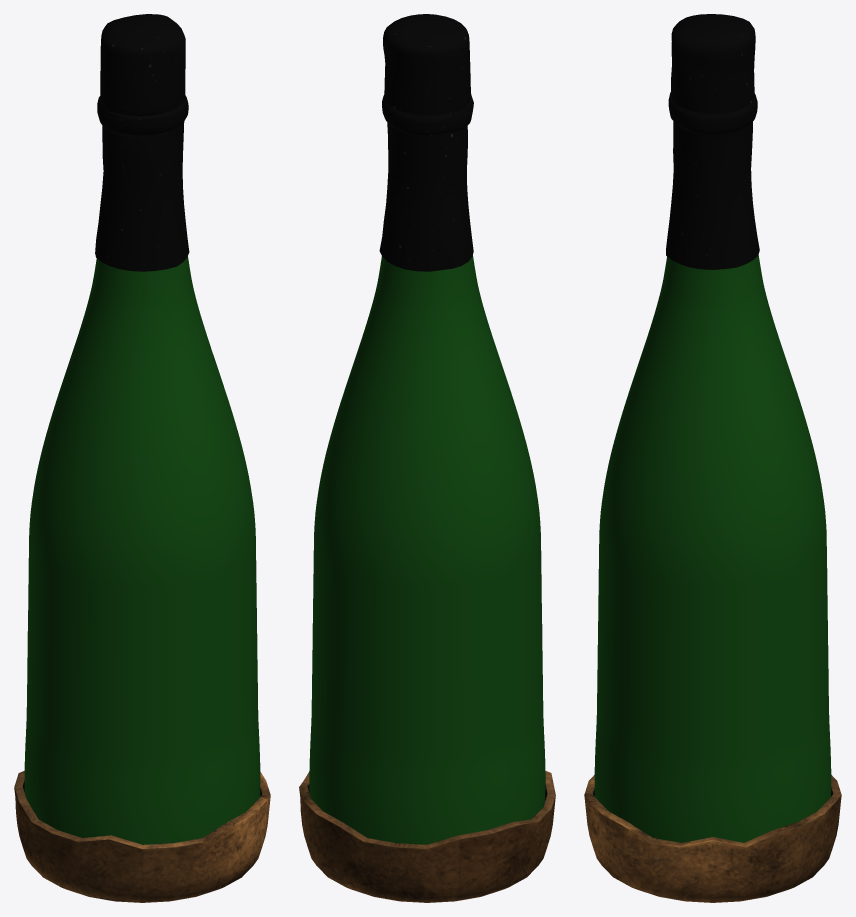
Rendered from champagne_draft1.glb.
3 views of the same model, side by side, from view 1: azimuth 30°, elevation 25°; view 2: azimuth 150°, elevation 25°; view 3: azimuth 270°, elevation 25° (orthographic).
Parts seen in each view (by area): view 1: Bottle, Shellac, Base; view 2: Bottle, Shellac, Base; view 3: Bottle, Shellac, Base.
Boxes of the visible parts, bbox=[...] form: Bottle: bbox=[24, 256, 260, 844]; Shellac: bbox=[95, 14, 189, 271]; Base: bbox=[14, 771, 270, 902]; Bottle: bbox=[309, 255, 545, 844]; Shellac: bbox=[379, 14, 473, 271]; Base: bbox=[299, 770, 555, 902]; Bottle: bbox=[594, 255, 831, 842]; Shellac: bbox=[666, 14, 759, 269]; Base: bbox=[584, 775, 841, 902].
Bounding box in the file's own units: 0.0903 × 0.324 × 0.0903.
Materials: 3 (2 with a texture image).
